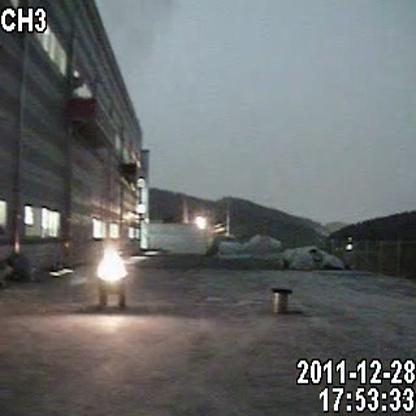Fire: (99, 245, 135, 284)
